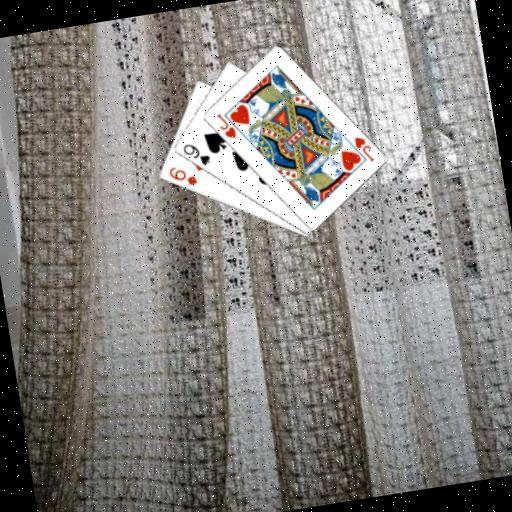6D: (164, 160, 199, 190)
9S: (178, 137, 212, 170)
JH: (350, 132, 375, 166), (212, 108, 237, 141)
